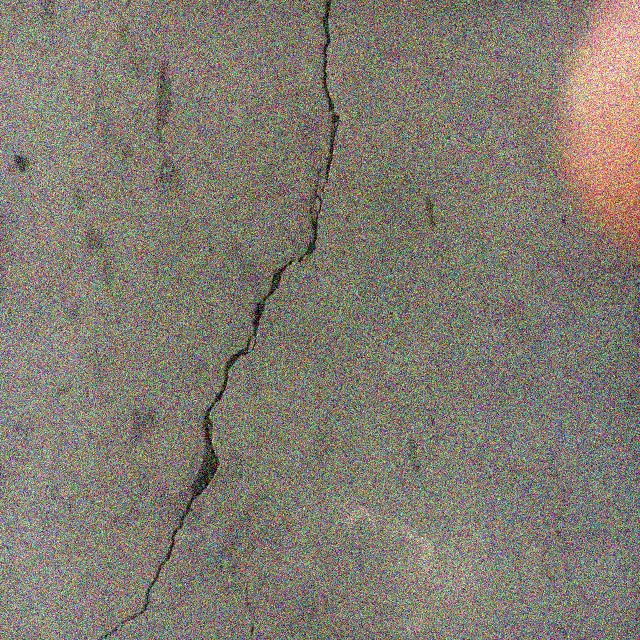SurfaceCrack: (18, 1, 371, 640)
